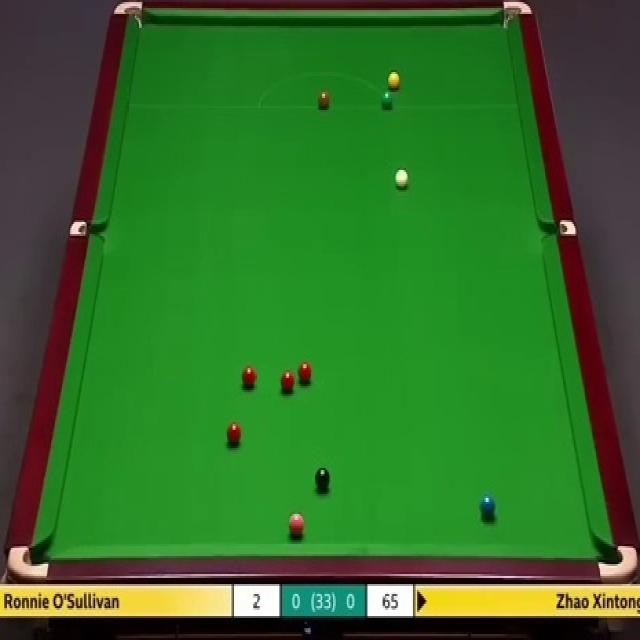pocket: (7, 543, 49, 586), (595, 543, 636, 580), (500, 0, 534, 32), (111, 0, 145, 29), (541, 218, 575, 237), (68, 221, 104, 237)
